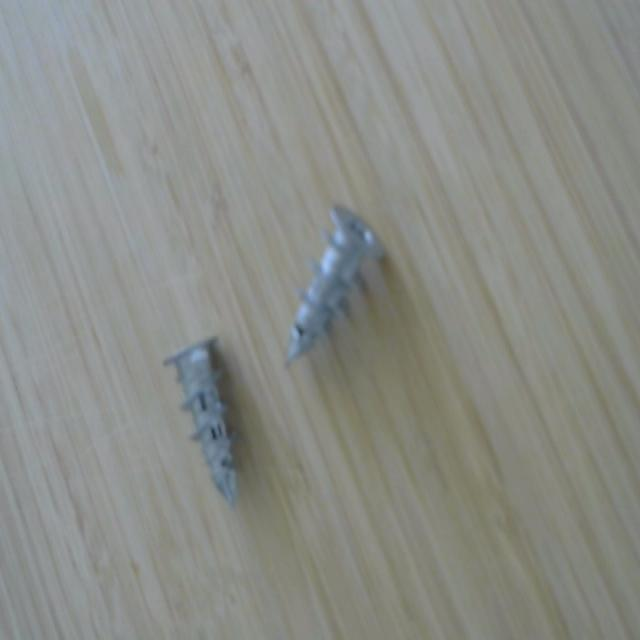Short screw: (277, 197, 390, 369), (159, 325, 243, 514)
